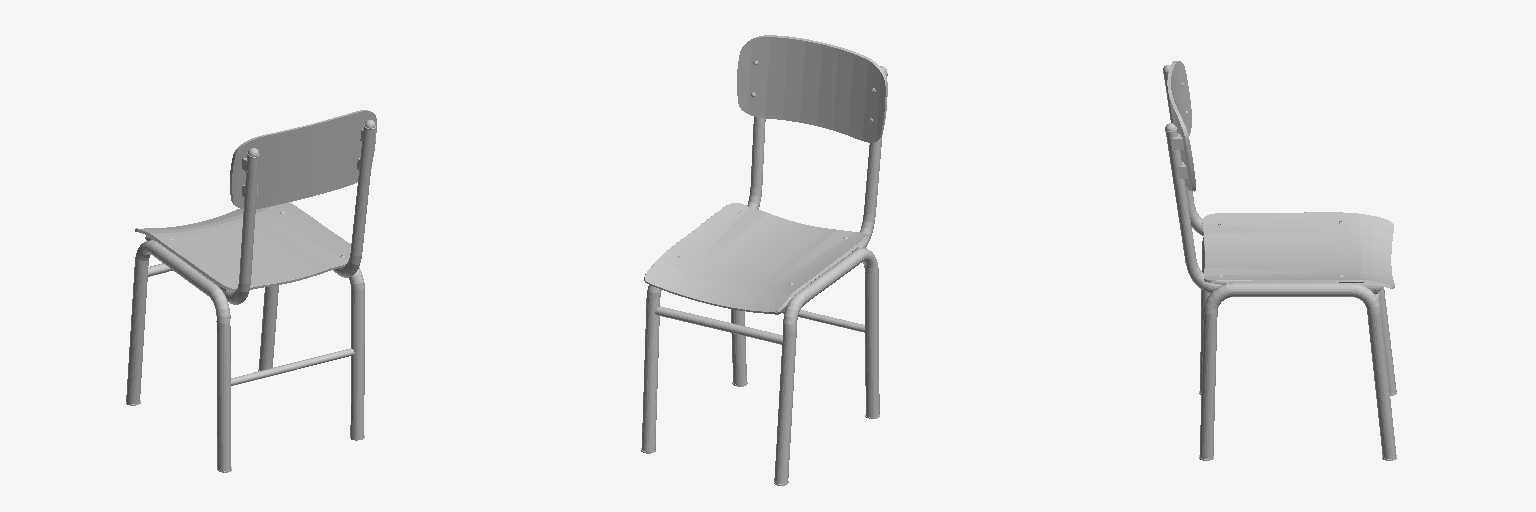
The model's file is chair_01.obj.
The picture shows the model from 3 angles: view 1: azimuth 30°, elevation 25°; view 2: azimuth 150°, elevation 25°; view 3: azimuth 270°, elevation 25°; orthographic projection.
Parts seen in each view (by area): view 1: Mesh01; view 2: Mesh01; view 3: Mesh01.
Boxes of the visible parts, x1,y1,x2,y2 form: Mesh01: [126, 110, 376, 472]; Mesh01: [641, 35, 887, 483]; Mesh01: [1164, 61, 1396, 460].
Bounding box in the file's own units: 3.11 × 6.85 × 4.23.